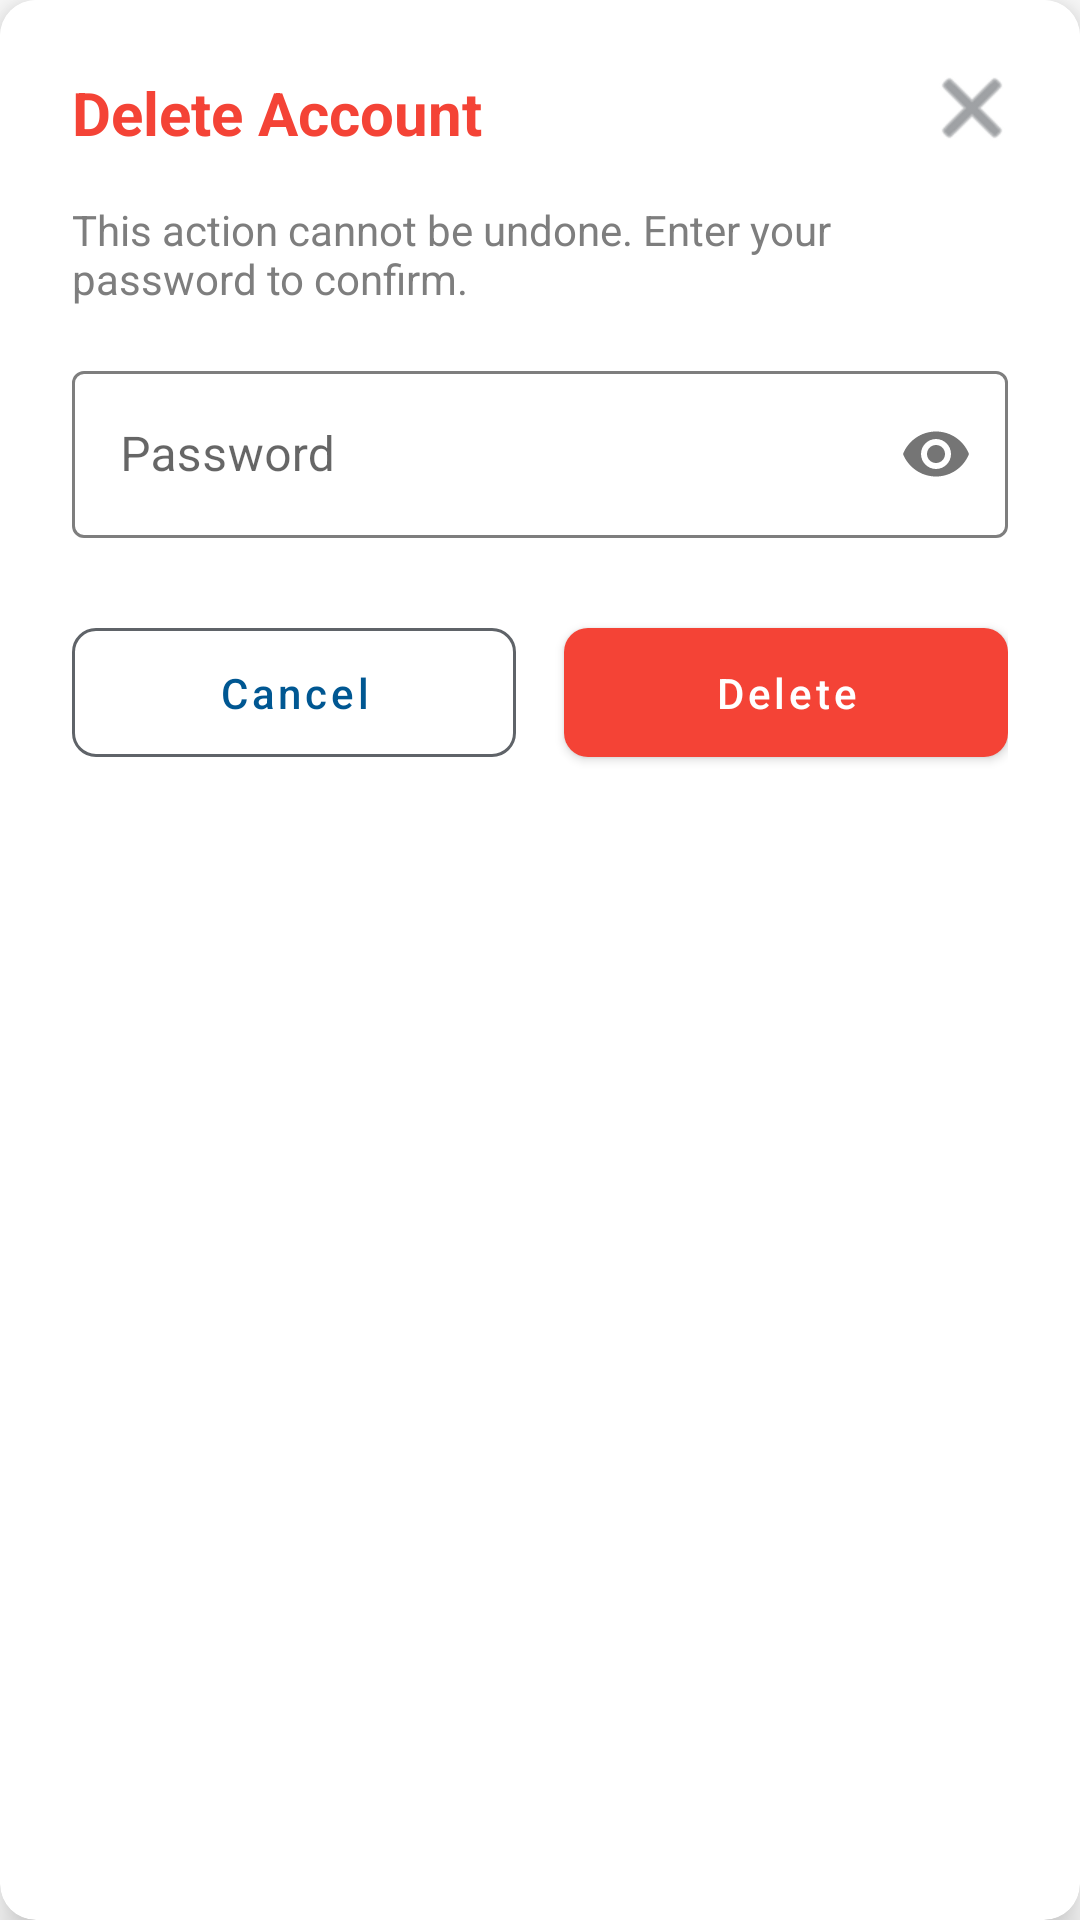

Point at icon controls on the screen. Image size 1080 x 1920, points as point (x, y).
Close: point (972, 108)
